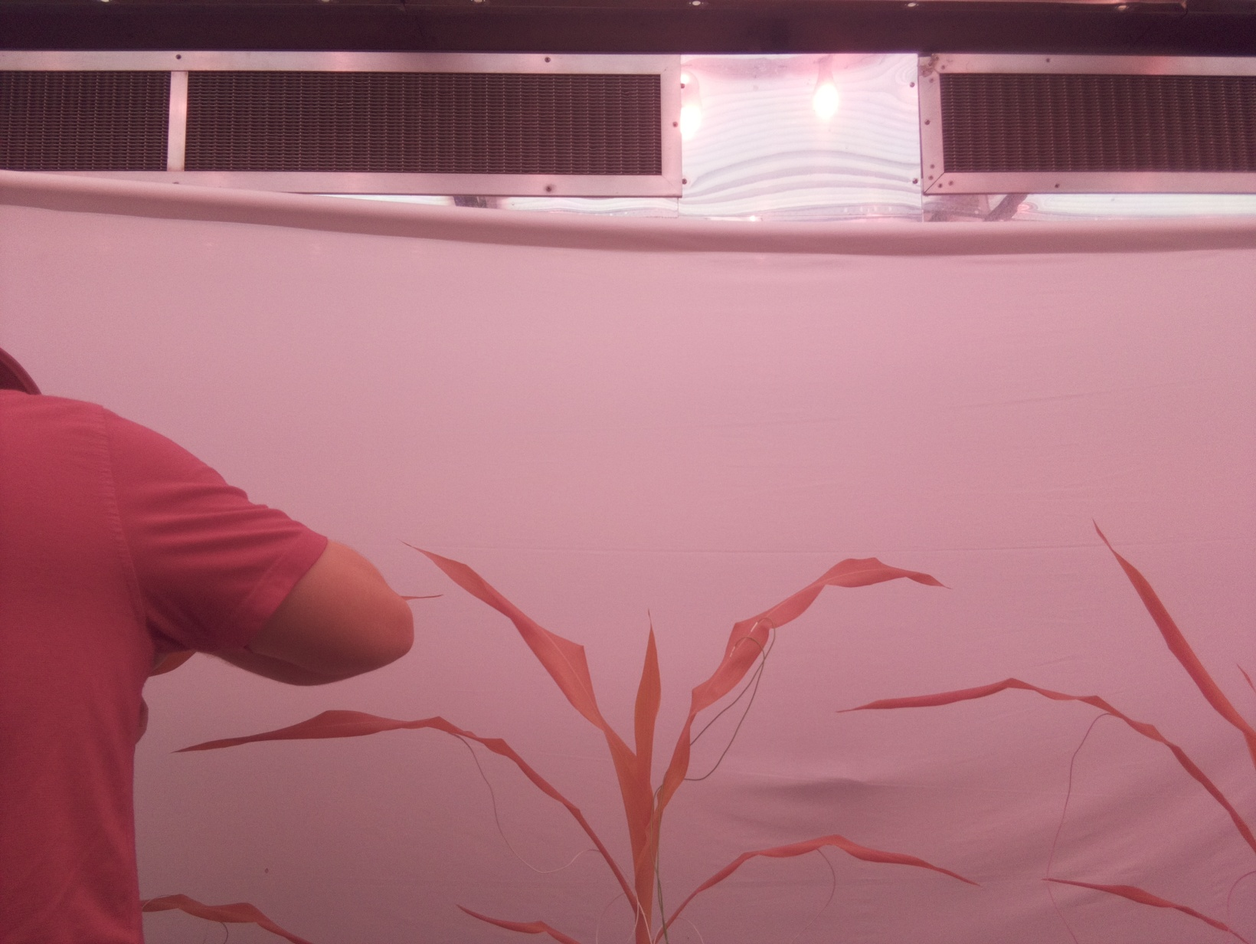maize: (146, 536, 980, 944), (836, 516, 1256, 944)
